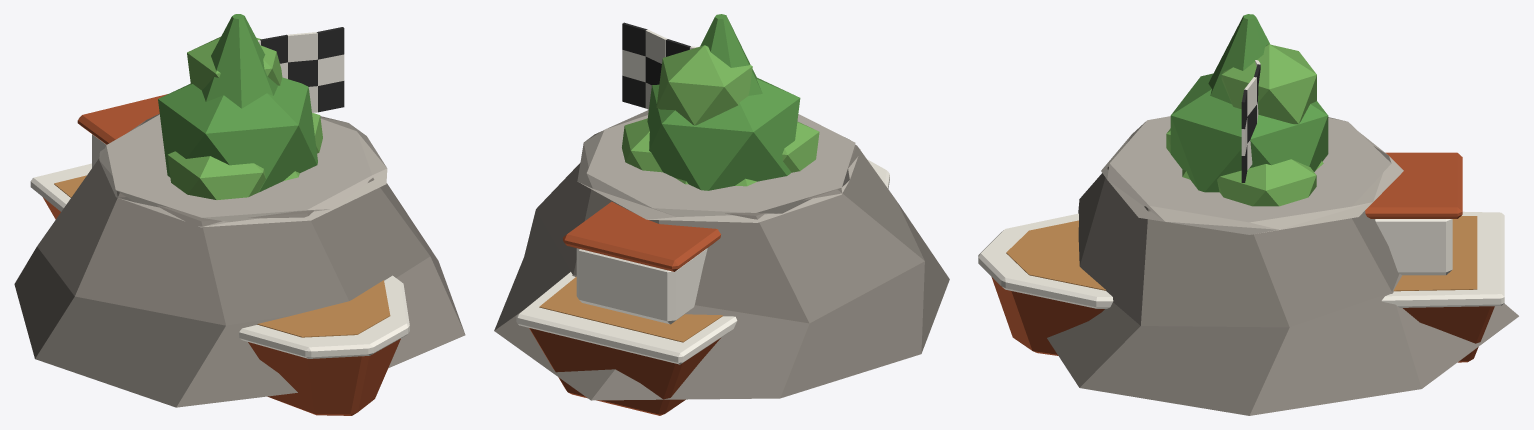
The model's file is cenario.glb.
3 renders of one model, left to right at view 1: azimuth 30°, elevation 25°; view 2: azimuth 150°, elevation 25°; view 3: azimuth 270°, elevation 25°, orthographic. The views are drawn at different scales.
Visible parts, largest first — view 1: pedra-do-rio, barco-casco, arvore, chegada, pinheiro; view 2: pedra-do-rio, barco-casco, arvore, chegada, pinheiro; view 3: pedra-do-rio, barco-casco, arvore, pinheiro, chegada.
Boxes of the visible parts, left/top/right/bottom form: pedra-do-rio: left=14, top=114, right=465, bottom=407; barco-casco: left=30, top=94, right=409, bottom=415; arvore: left=158, top=36, right=322, bottom=199; chegada: left=258, top=27, right=344, bottom=112; pinheiro: left=202, top=14, right=299, bottom=180; pedra-do-rio: left=494, top=110, right=949, bottom=400; barco-casco: left=516, top=159, right=889, bottom=415; arvore: left=622, top=45, right=819, bottom=190; chegada: left=622, top=22, right=697, bottom=109; pinheiro: left=675, top=14, right=762, bottom=186; pedra-do-rio: left=1047, top=116, right=1518, bottom=415; barco-casco: left=978, top=152, right=1504, bottom=362; arvore: left=1166, top=44, right=1328, bottom=206; pinheiro: left=1182, top=14, right=1323, bottom=179; chegada: left=1241, top=60, right=1260, bottom=182.
Size of the model in its own units: 2.88 by 2.21 by 3.27.
